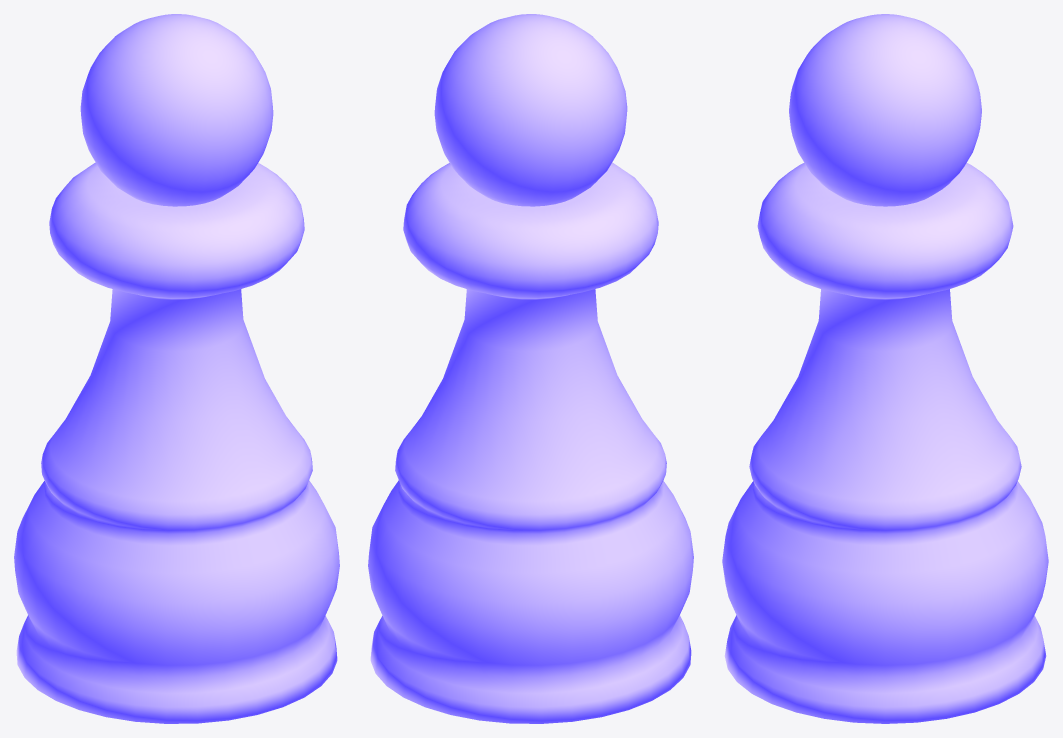
The model's file is Bauer.glb.
3 renders of one model, left to right at view 1: azimuth 30°, elevation 25°; view 2: azimuth 150°, elevation 25°; view 3: azimuth 270°, elevation 25°, orthographic.
Visible parts, largest first — view 1: Bauer; view 2: Bauer; view 3: Bauer.
Part boxes in pixels (left/top/right/bottom): Bauer: left=14, top=14, right=339, bottom=723; Bauer: left=368, top=14, right=693, bottom=723; Bauer: left=722, top=14, right=1048, bottom=723.
Size of the model in its own units: 0.7107 by 1.52 by 0.7107.
